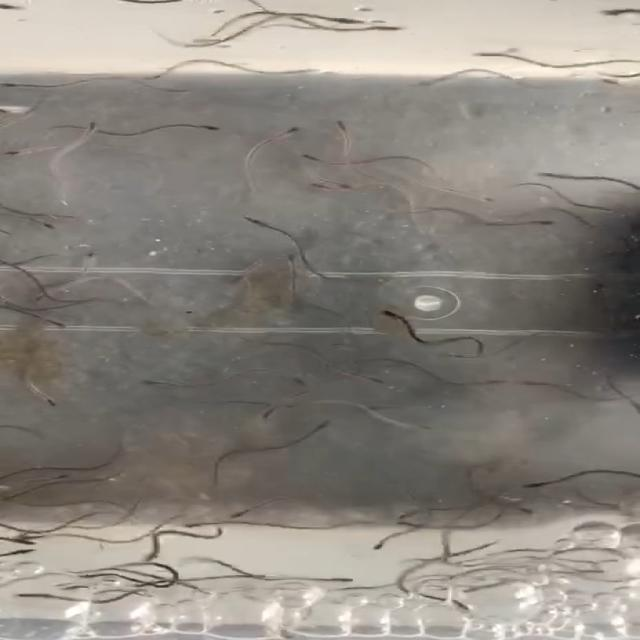active_glass_eel: (367, 22, 430, 46), (499, 475, 569, 496), (298, 178, 360, 200), (127, 374, 182, 395), (183, 117, 231, 138), (452, 45, 509, 62), (312, 117, 360, 135), (412, 78, 451, 100), (288, 146, 330, 164), (277, 373, 315, 392), (322, 570, 362, 588), (229, 214, 276, 229), (532, 212, 564, 234), (509, 502, 553, 518), (23, 393, 64, 410), (367, 304, 405, 322), (14, 545, 54, 562), (353, 370, 395, 386), (272, 250, 316, 265), (316, 13, 363, 27), (69, 246, 104, 264), (358, 540, 408, 552), (269, 124, 306, 140), (466, 187, 497, 205), (220, 506, 257, 521), (5, 144, 31, 165), (538, 168, 580, 181), (1, 80, 29, 98), (0, 492, 31, 508), (14, 533, 46, 548), (313, 416, 338, 435), (142, 68, 168, 86), (23, 287, 54, 302), (249, 405, 278, 421), (358, 535, 386, 551), (73, 120, 115, 130), (183, 519, 211, 534), (140, 550, 163, 568), (36, 220, 64, 234)
